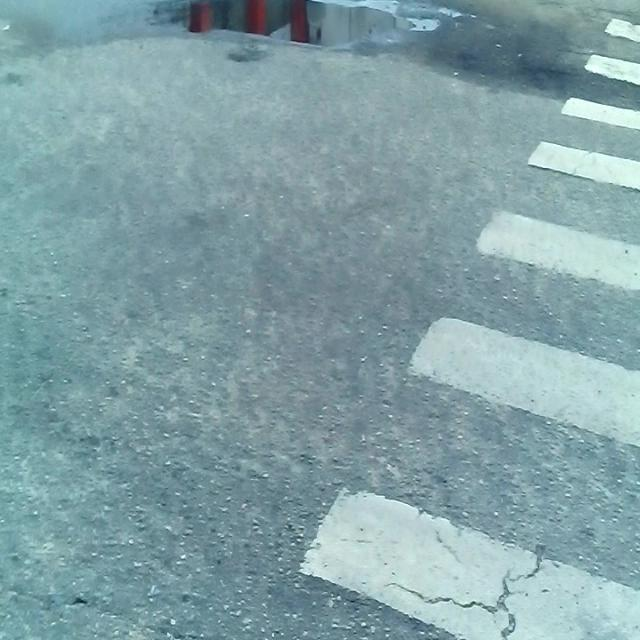crosswalk: (235, 0, 640, 640)
